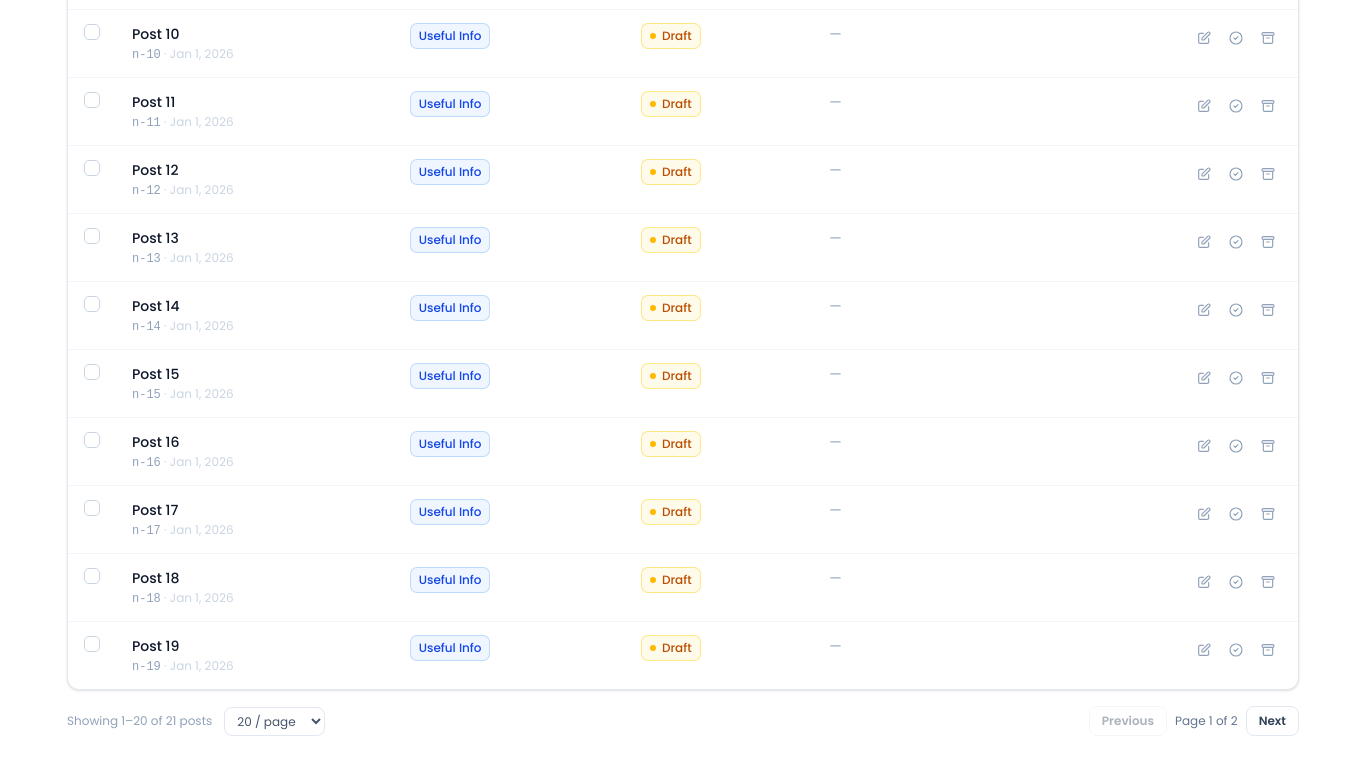
DashboardClient › disables next on the last of multiple pages
(page scrolled)
Click the button "Next": {"x": 1272, "y": 721} [1246,706,1299,736]
(page scrolled)
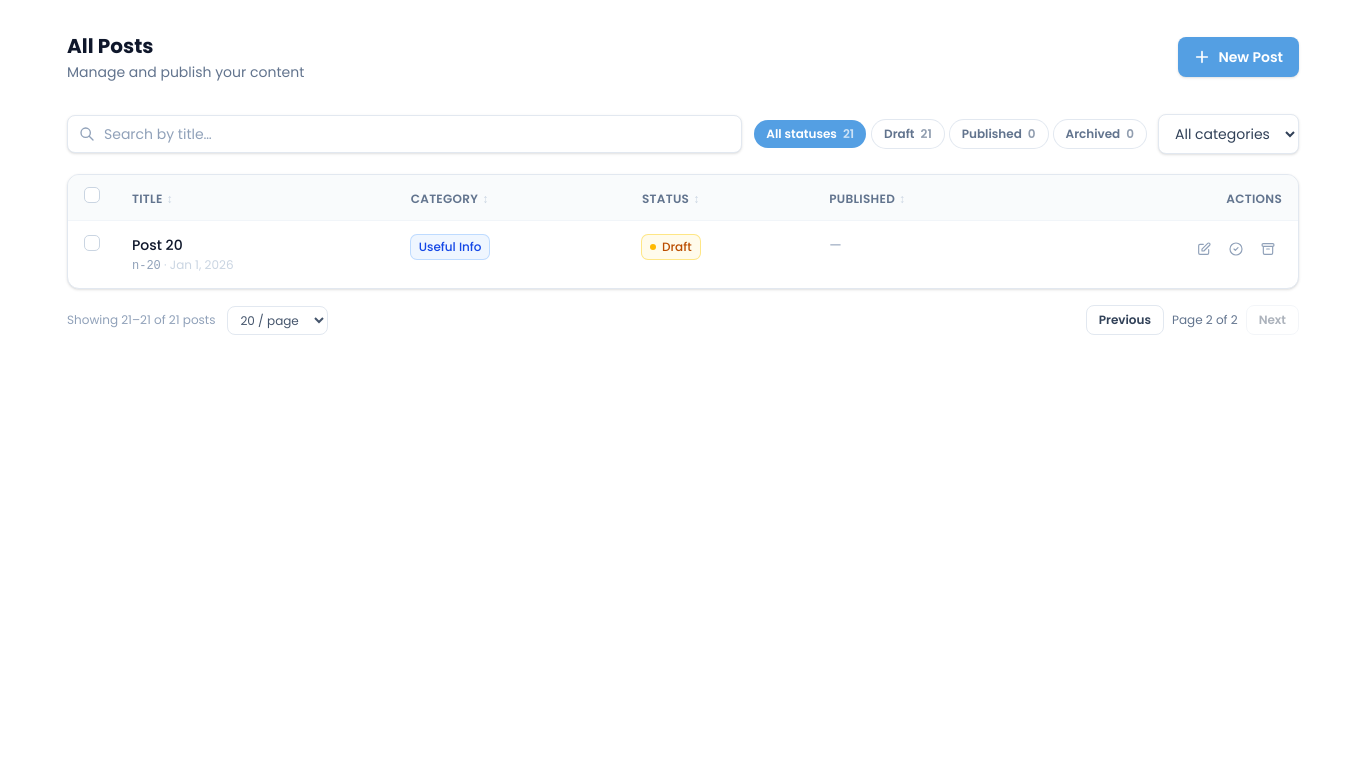
expect the button "Previous" is enabled: met, box [1086,305,1164,335]
expect the button "Next" is disabled: met, box [1246,305,1299,335]
